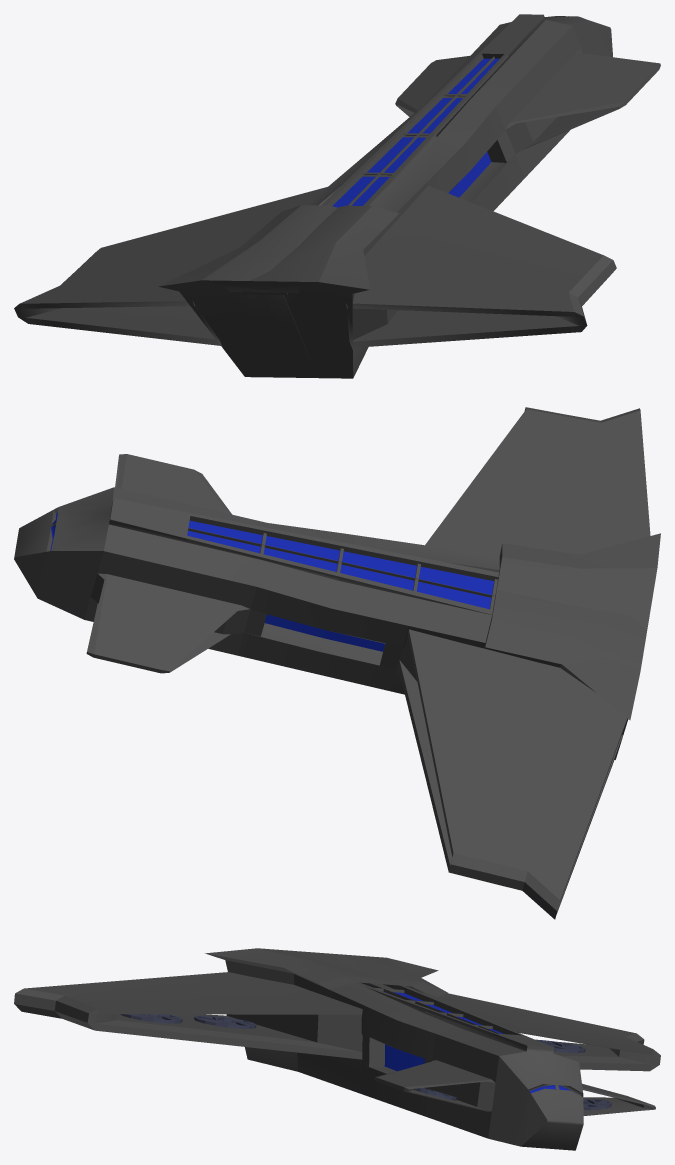
File: first_anims.fbx
The picture shows the model from 3 angles, top to bottom: view 1: azimuth 30°, elevation 25°; view 2: azimuth 150°, elevation 25°; view 3: azimuth 270°, elevation 25°; orthographic projection. The views are drawn at different scales.
Visible parts, largest first — view 1: Cube.001; view 2: Cube.001; view 3: Cube.001.
Part boxes in pixels (left/top/right/bottom): Cube.001: left=14, top=14, right=660, bottom=378; Cube.001: left=14, top=407, right=660, bottom=919; Cube.001: left=14, top=948, right=660, bottom=1150.
Size of the model in its own units: 3130 by 1291 by 3290.
